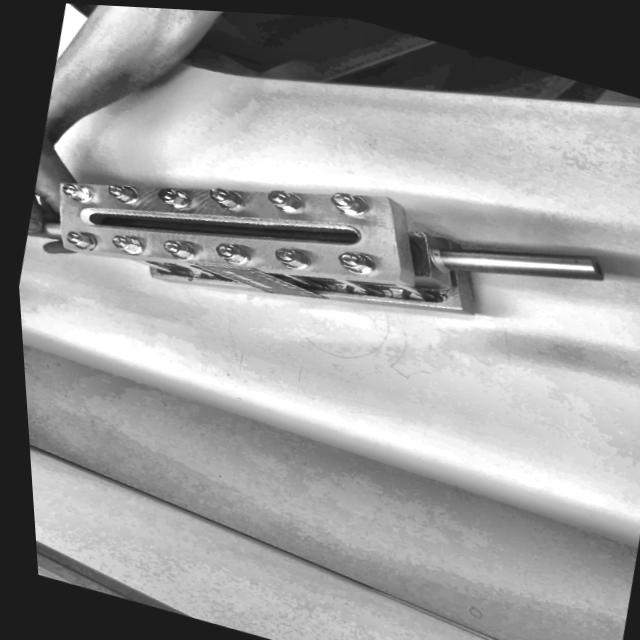ShuiWeiQi_12: (36, 116, 599, 406)
